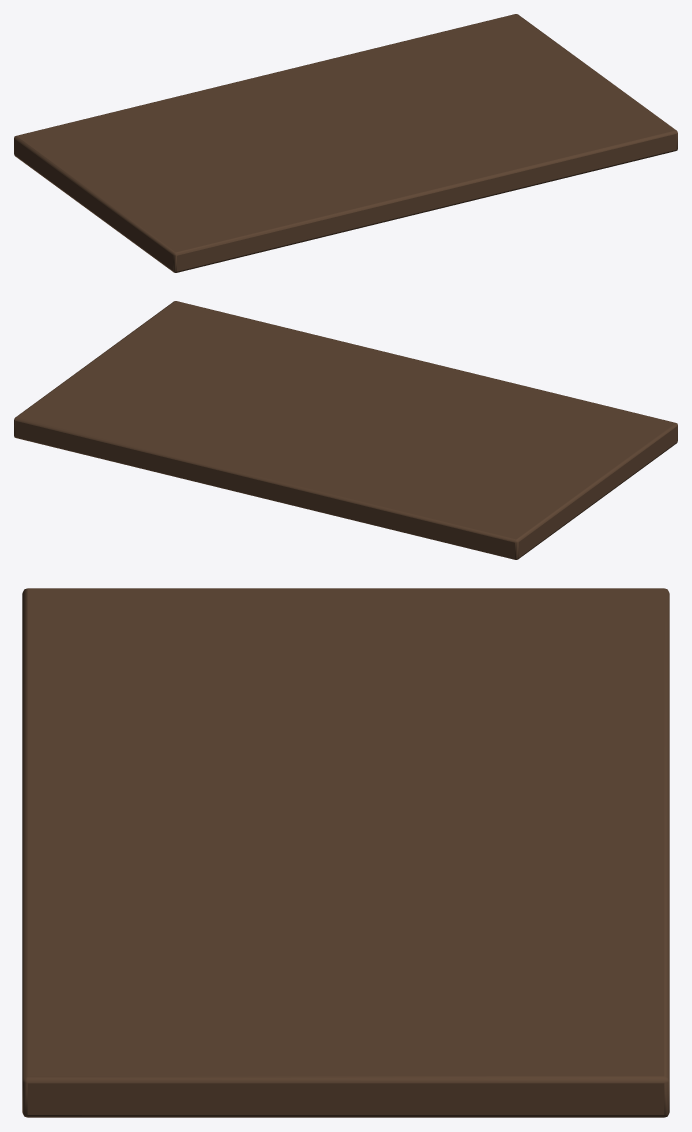
File: SM_F_Riser_Plank.fbx
3 renders of one model, top to bottom at view 1: azimuth 30°, elevation 25°; view 2: azimuth 150°, elevation 25°; view 3: azimuth 270°, elevation 25°, orthographic. The views are drawn at different scales.
Parts seen in each view (by area): view 1: SM_F_Riser_Plank__Body; view 2: SM_F_Riser_Plank__Body; view 3: SM_F_Riser_Plank__Body.
Boxes of the visible parts, <box> form: SM_F_Riser_Plank__Body: <box>14,14,677,272</box>; SM_F_Riser_Plank__Body: <box>14,301,677,559</box>; SM_F_Riser_Plank__Body: <box>22,588,669,1117</box>.
Size of the model in its own units: 0.9 by 0.035 by 0.5.
